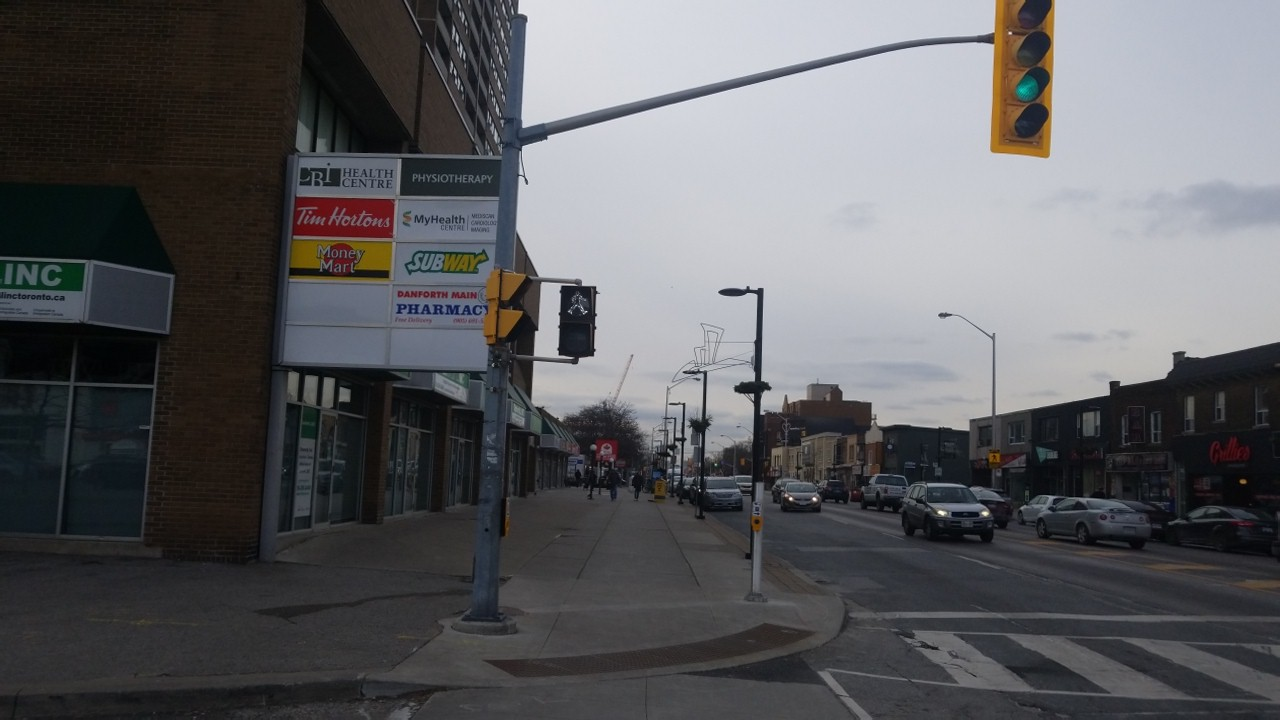light: (556, 279, 602, 363)
